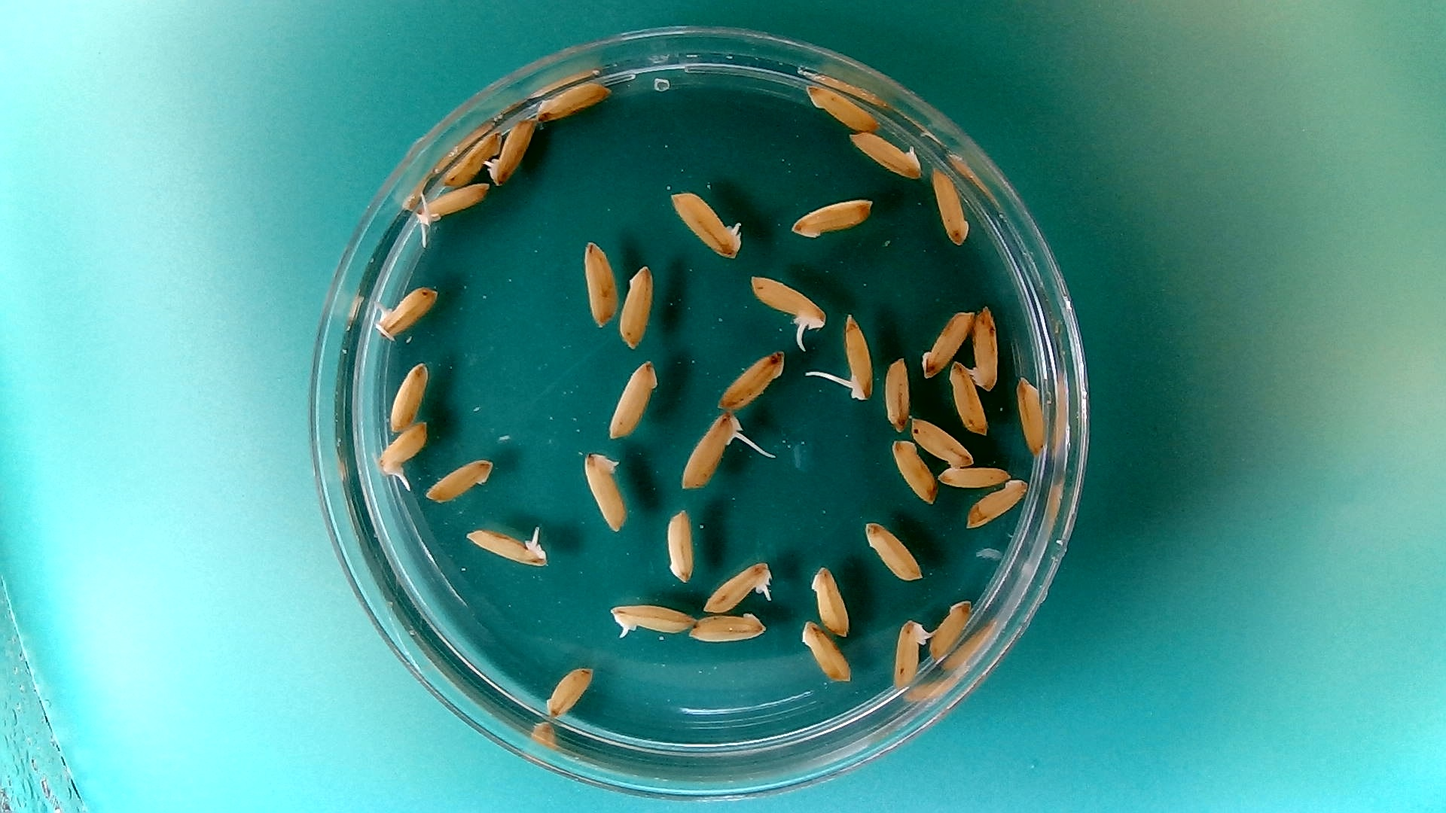no: (604, 357, 660, 442), (714, 348, 788, 410), (581, 448, 630, 535), (788, 193, 877, 240), (917, 306, 974, 379), (438, 126, 503, 188), (803, 81, 881, 132), (862, 518, 924, 582), (798, 617, 853, 686), (532, 76, 613, 121), (616, 261, 656, 352), (964, 476, 1031, 530), (422, 455, 494, 504), (929, 165, 972, 247), (889, 436, 938, 507), (808, 562, 853, 639), (581, 237, 619, 327), (911, 415, 976, 467), (386, 357, 431, 432), (947, 361, 989, 436), (927, 595, 974, 662), (543, 662, 595, 721), (1014, 373, 1048, 459), (687, 610, 769, 644), (663, 504, 695, 583), (881, 354, 911, 432), (935, 461, 1011, 489)
yes: (676, 407, 777, 497), (664, 185, 746, 259), (746, 270, 827, 334), (700, 558, 775, 614), (371, 282, 441, 341), (482, 113, 538, 186), (845, 129, 923, 180), (462, 522, 550, 567), (412, 180, 491, 229), (374, 419, 431, 486), (605, 599, 698, 640), (889, 615, 931, 690), (843, 311, 876, 405), (967, 303, 1001, 391)
